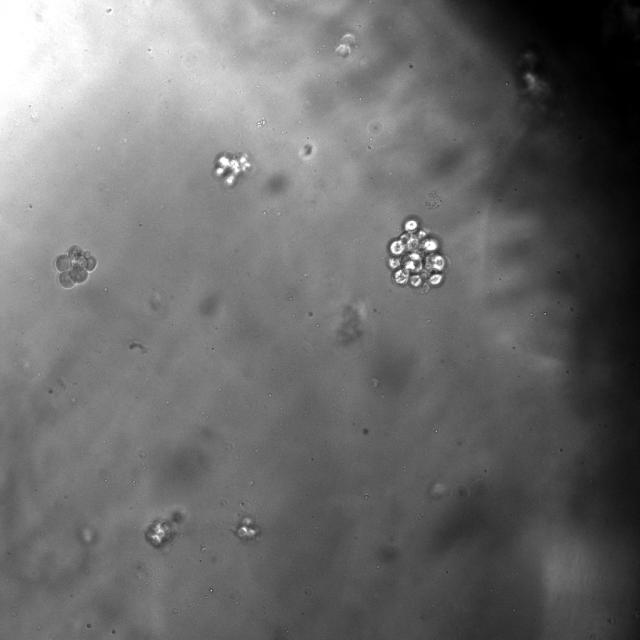organoid: (386, 219, 447, 292), (54, 245, 97, 289), (144, 508, 186, 548), (213, 152, 254, 187), (235, 516, 259, 541)
